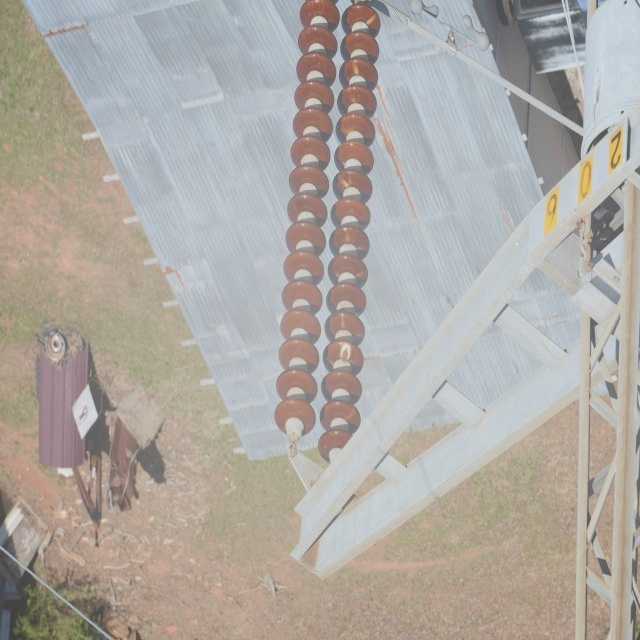insulator: (273, 0, 380, 455)
